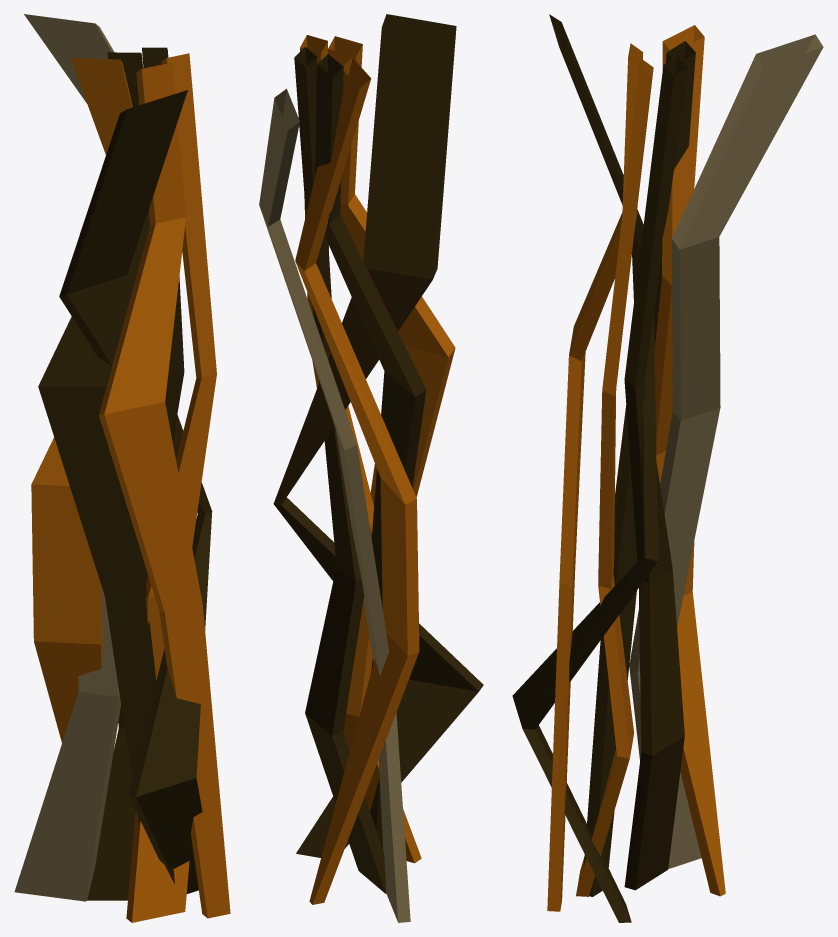
Rendered from thomClean1.glb.
3 renders of one model, left to right at view 1: azimuth 30°, elevation 25°; view 2: azimuth 150°, elevation 25°; view 3: azimuth 270°, elevation 25°, orthographic. The views are drawn at different scales.
Visible parts, largest first — view 1: Thomyorke.004, Thomyorke.001, Thomyorke.003, Thomyorke.002, Thomyorke.005; view 2: Thomyorke.003, Thomyorke.001, Thomyorke.005, Thomyorke.002, Thomyorke.004; view 3: Thomyorke.001, Thomyorke.002, Thomyorke.004, Thomyorke.003, Thomyorke.005.
Part boxes in pixels (x1,y1,x2,y2): Thomyorke.004: (99,53,230,922); Thomyorke.001: (38,47,184,900); Thomyorke.003: (59,90,212,893); Thomyorke.002: (14,14,120,901); Thomyorke.005: (31,57,132,742); Thomyorke.003: (273,14,483,857); Thomyorke.001: (294,47,426,893); Thomyorke.005: (295,58,419,904); Thomyorke.002: (259,88,410,922); Thomyorke.004: (300,35,455,863); Thomyorke.001: (583,41,695,896); Thomyorke.002: (629,34,823,868); Thomyorke.004: (547,43,653,911); Thomyorke.003: (512,14,657,922); Thomyorke.005: (654,25,725,896).
Size of the model in its own units: 3.05 by 14.49 by 4.8.
